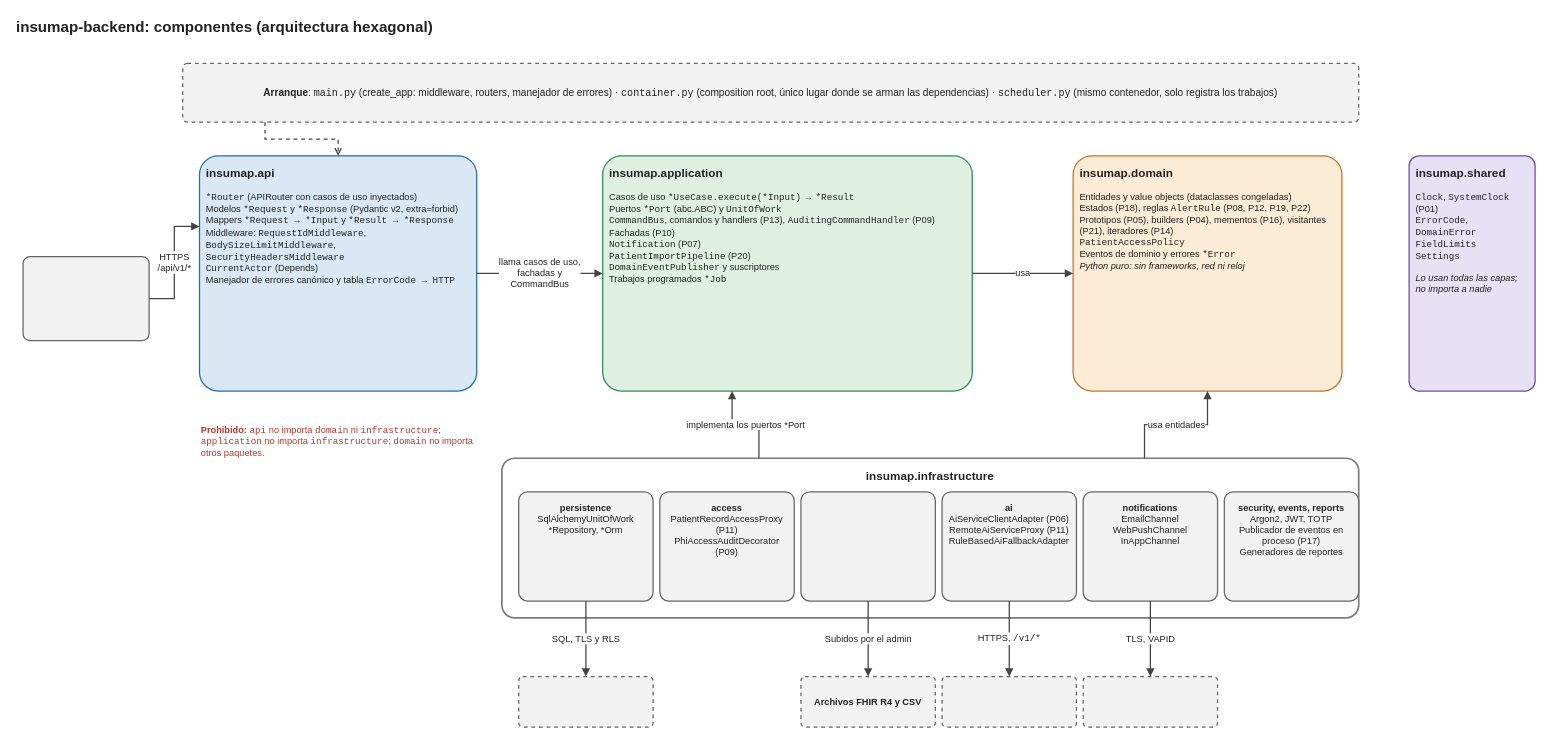
Image size: 1557x742. Some labels were removed from this diagram. The centre of each missing label's shape, as x and y in pixels:
"Clientes PWA y simulador" belongs at [85,298].
"insumap-ai" belongs at [1009,701].
"integration Adaptadores FHIR, CSV y CGM (P06) *IntegrationFactory (P03)" belongs at [868,546].
"PostgreSQL 18 (Neon)" belongs at [585,701].
"SMTP y Web Push" belongs at [1150,701].
